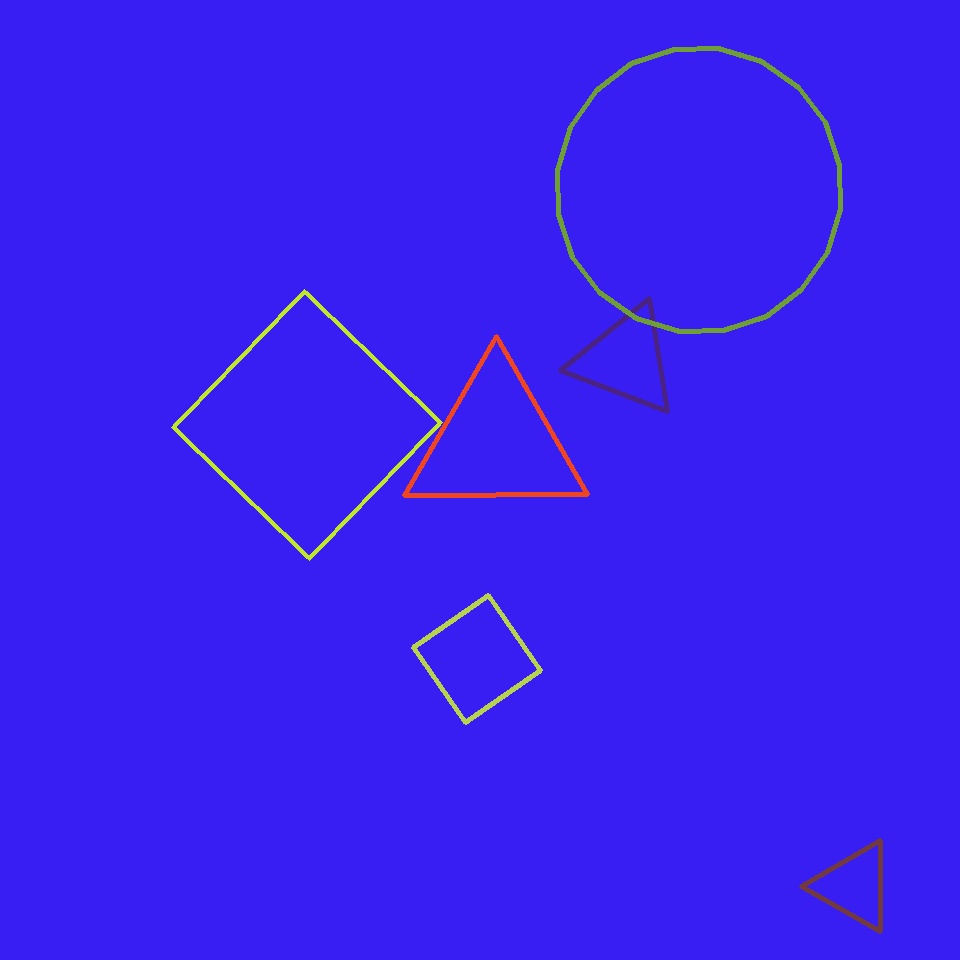circle: (404, 362, 588, 522), (572, 304, 680, 416), (814, 841, 894, 932)
square: (173, 291, 440, 558), (414, 595, 540, 722)
triangle: (558, 48, 840, 332)
